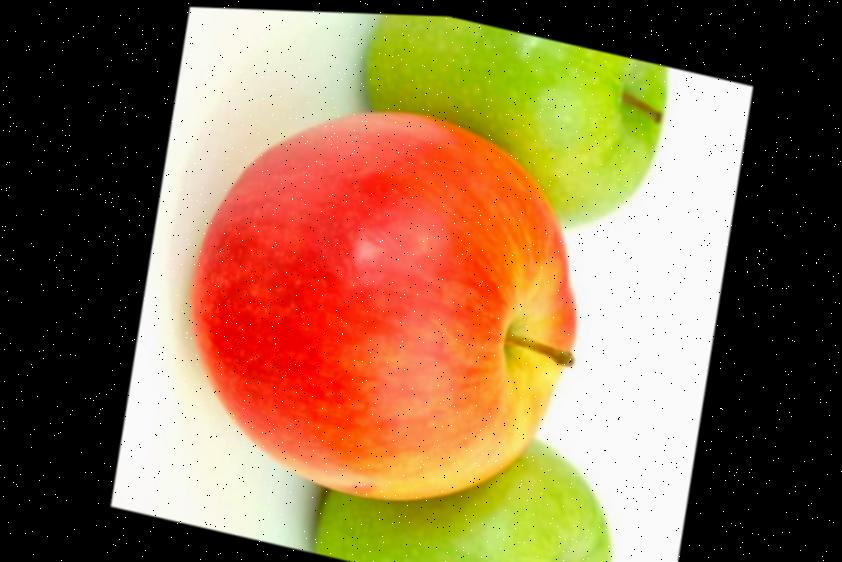HEALTHY: (154, 60, 631, 511), (327, 12, 706, 191), (289, 466, 645, 562)
